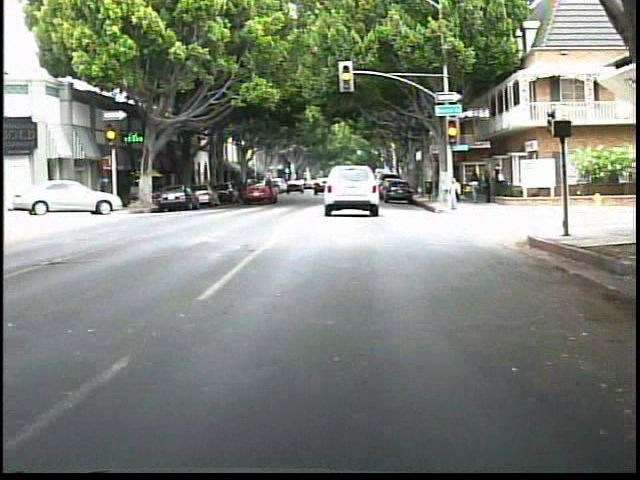person: (444, 174, 465, 212), (467, 169, 483, 205), (491, 160, 506, 196), (480, 167, 493, 204)
